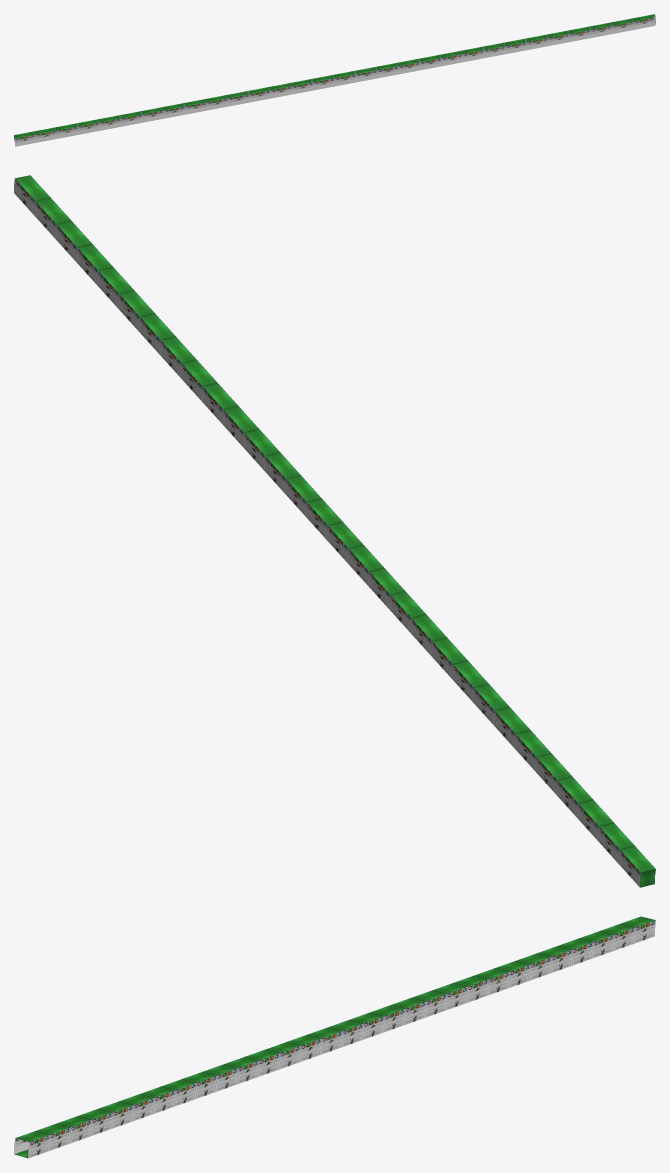
Rendered from CourseSummer_Wall_L_17.fbx.
3 views of the same model, one above another, from view 1: azimuth 30°, elevation 25°; view 2: azimuth 150°, elevation 25°; view 3: azimuth 270°, elevation 25° (orthographic). The views are drawn at different scales.
Visible parts, largest first — view 1: polySurface82; view 2: polySurface82; view 3: polySurface82.
Part boxes in pixels (x1,y1,x2,y2): polySurface82: [14, 14, 655, 146]; polySurface82: [14, 175, 655, 887]; polySurface82: [14, 916, 655, 1158].
Size of the model in its own units: 126 by 31.97 by 73.75.
Materials: 1 (1 with a texture image).
